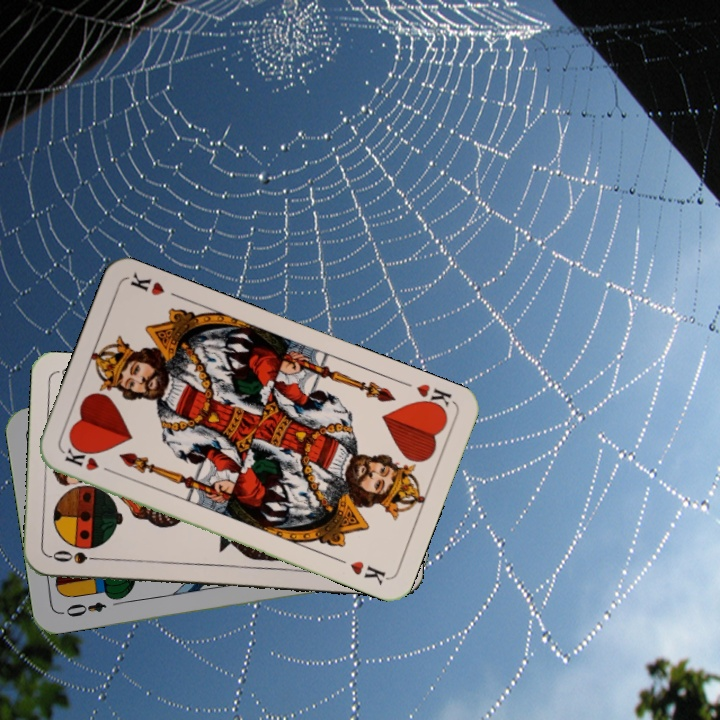EO: (57, 598, 109, 620)
HK: (61, 441, 118, 476), (411, 379, 456, 416)
SO: (47, 546, 107, 566)
